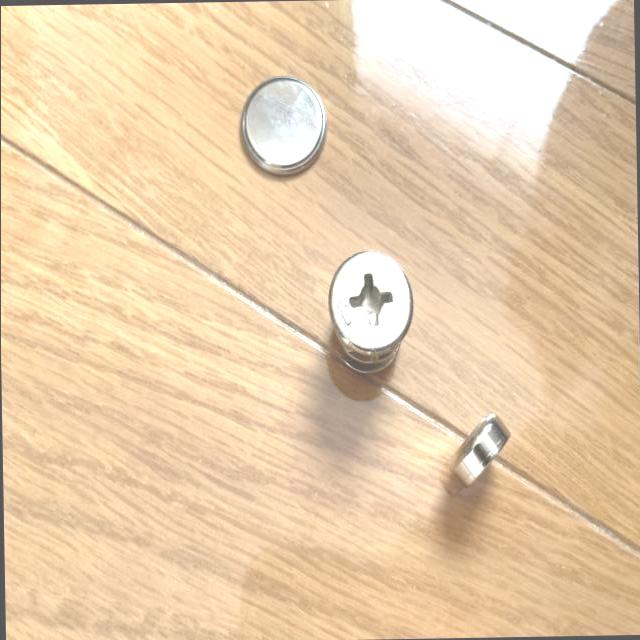COIN: (239, 75, 329, 178), (452, 412, 511, 486)
